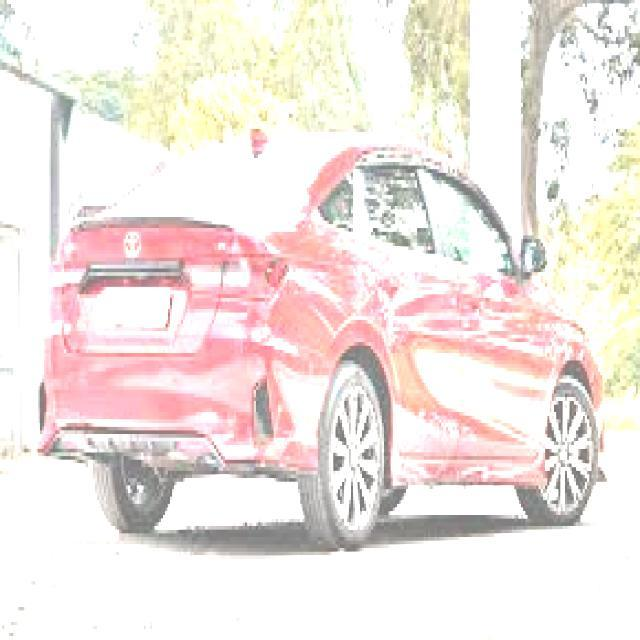ToyotaVios: (36, 126, 607, 550)
